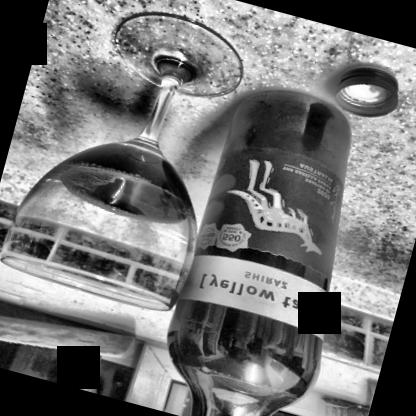yellowtail: (178, 135, 360, 339)
